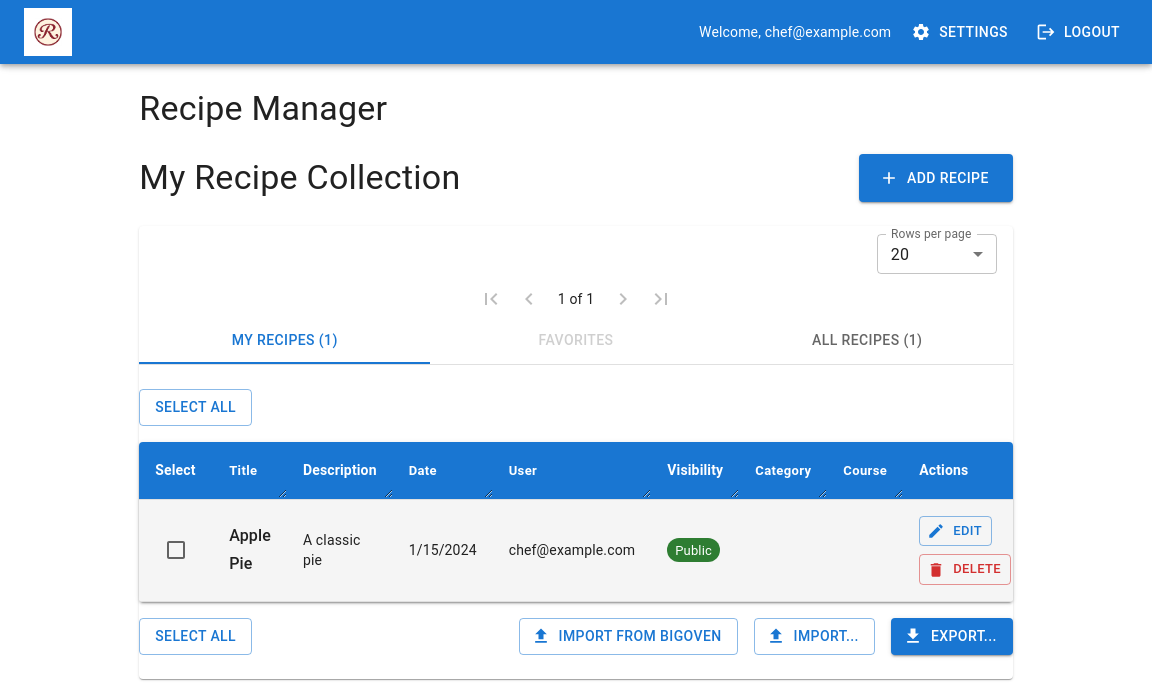
it: HomePage delete › opens delete confirmation dialog when Delete button is clicked
Expected: the heading "Apple Pie" is shown, [229, 522, 271, 578]
Click the button "Delete": (965, 570) [919, 554, 1011, 585]
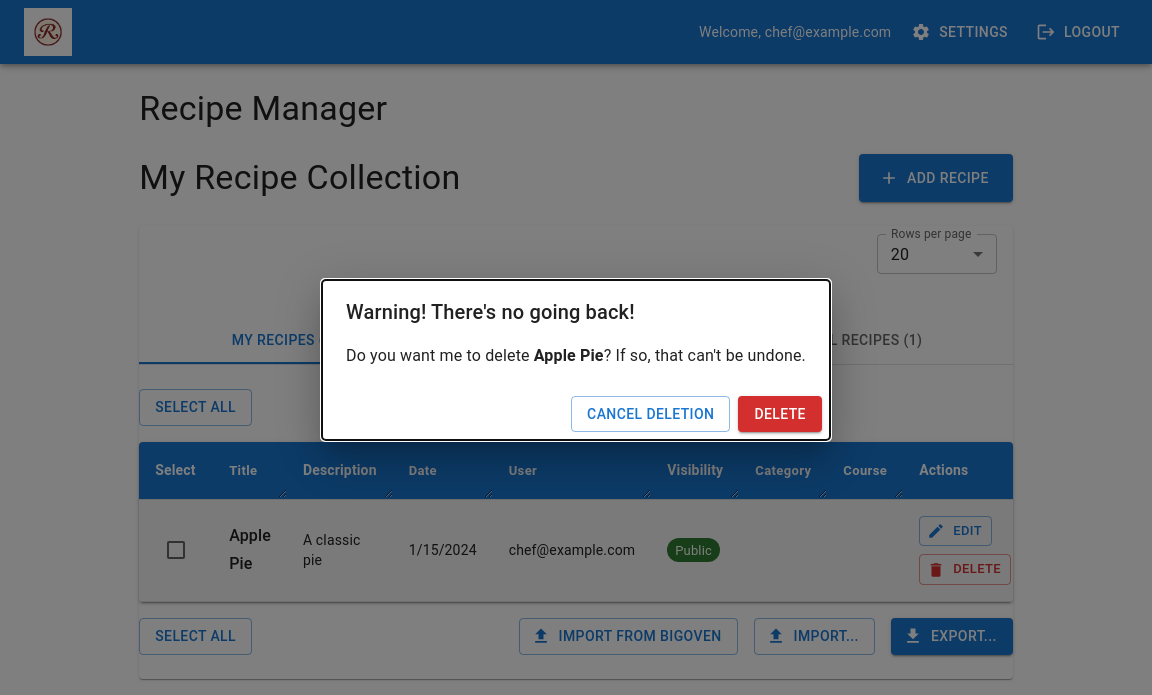
Expected: the heading "Warning! There's no going back!" is shown, [346, 300, 635, 324]
